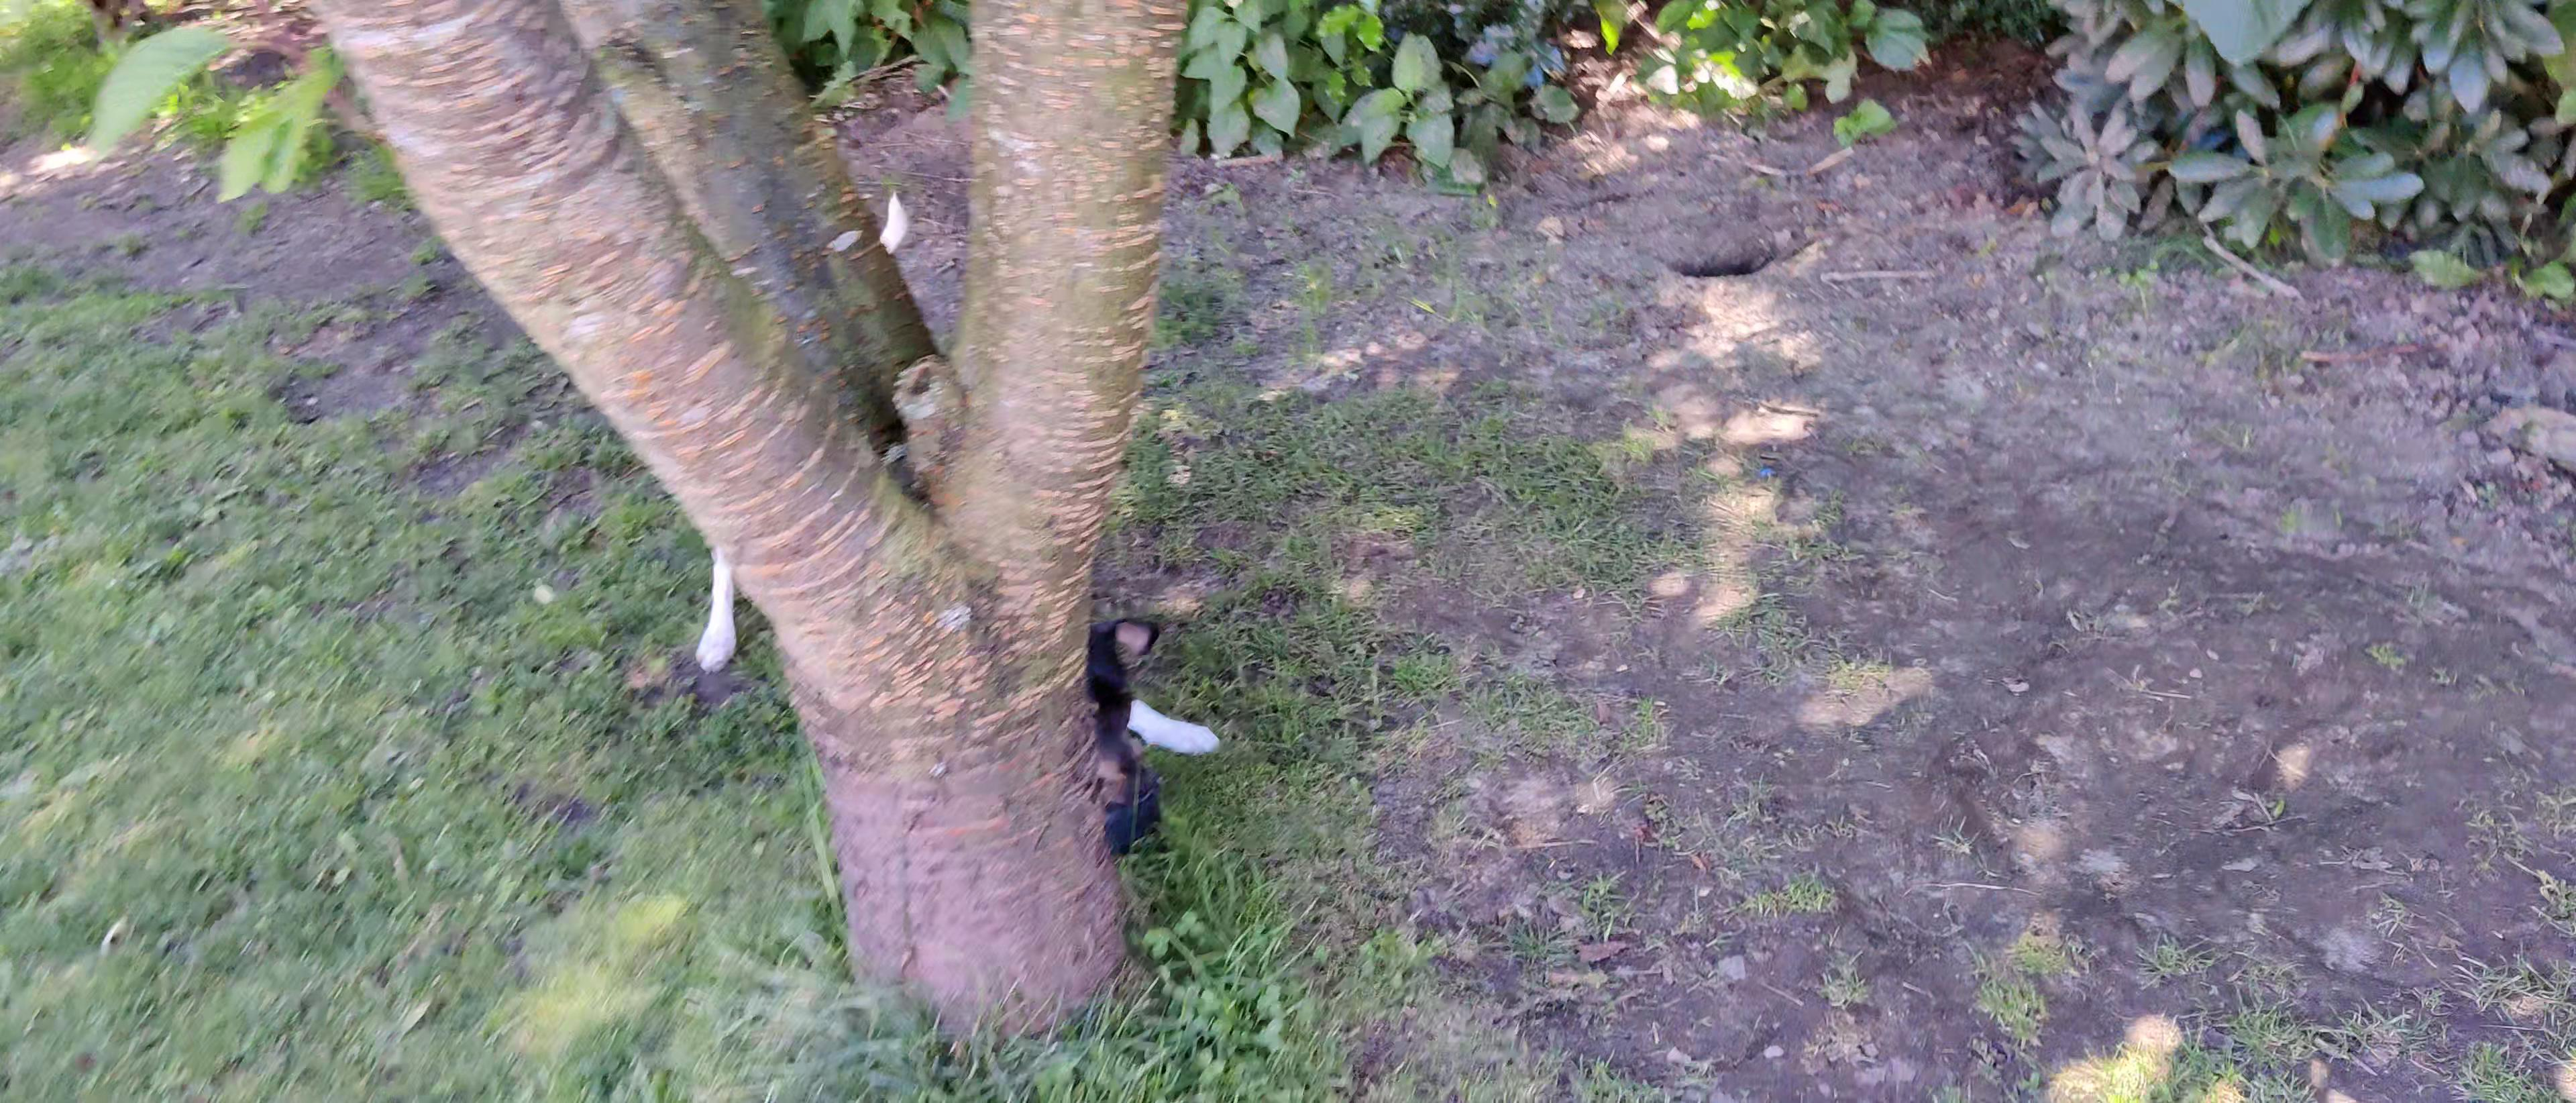Dog: (675, 437, 1227, 804)
